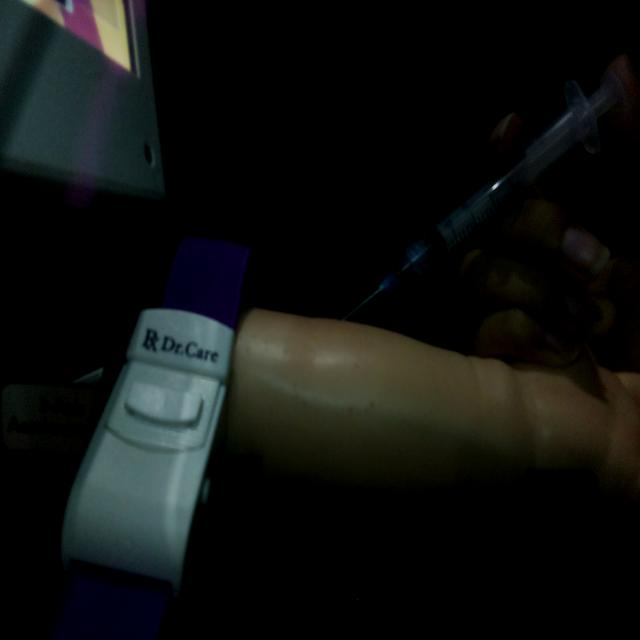30 degrees: (334, 64, 630, 330)
